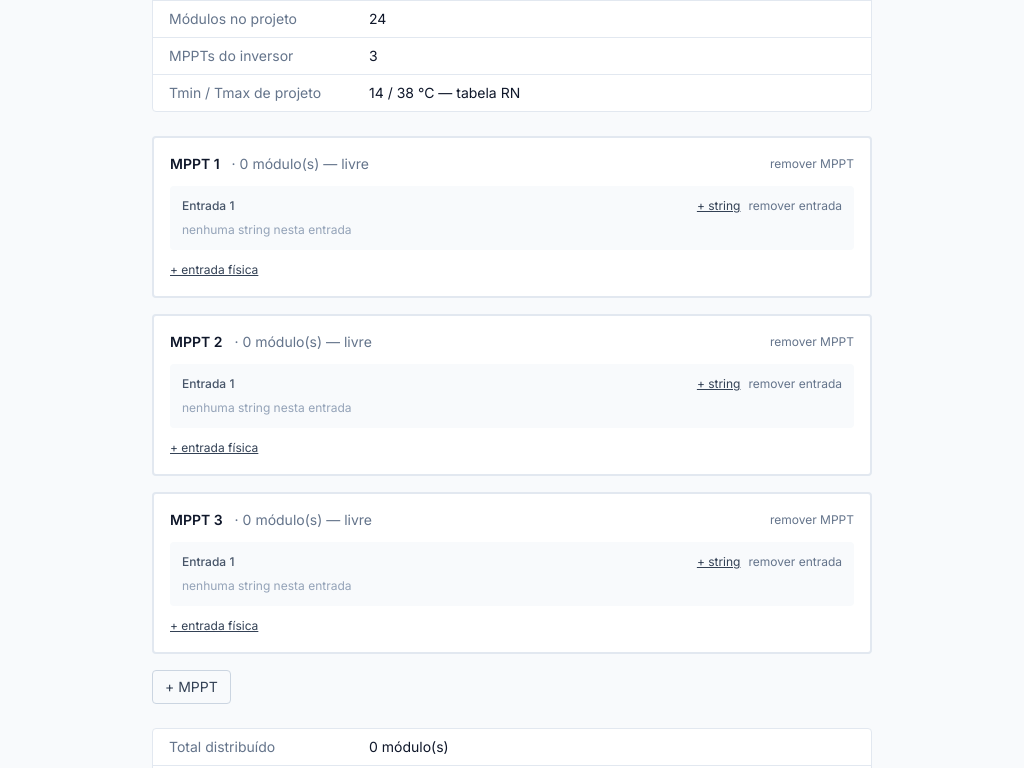
it: A1 · separador do MPPT › 19 · MPPT 2 com 12 módulos idem
(page scrolled)
Expected: the heading "MPPT 1 · 0 módulo(s) — livre" is shown, [170,154,369,174]
Click the 2nd button "+ string". click: click(719, 384)
box: [697,376,740,392]
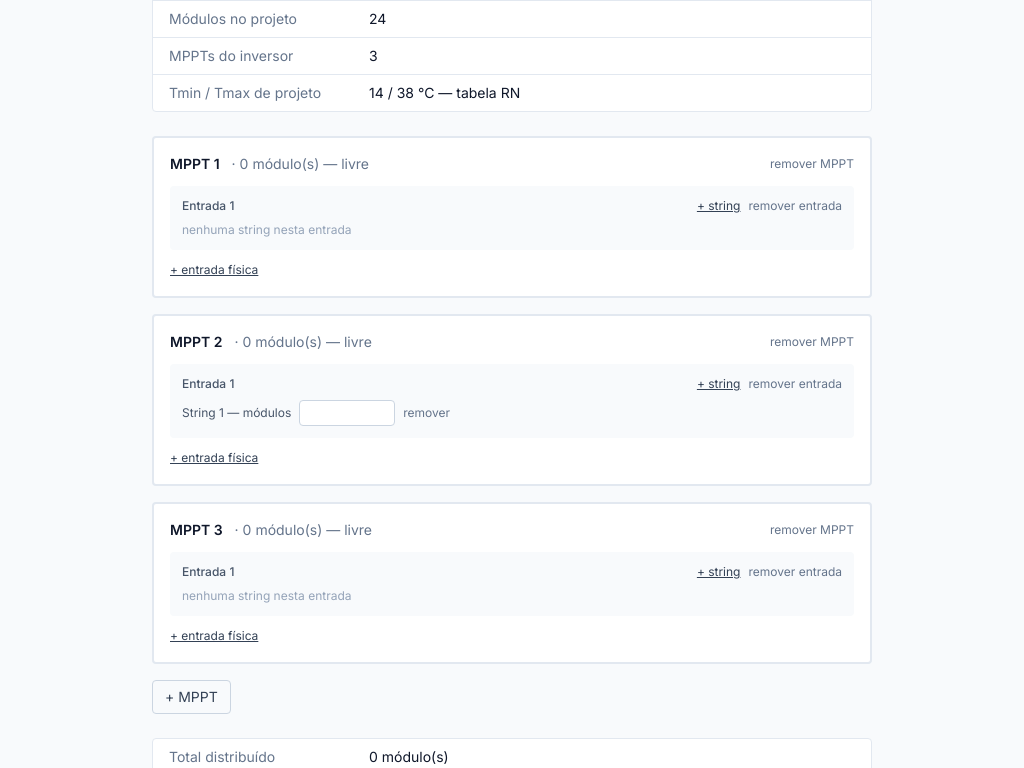
Type "12" into the number field named "MPPT 2 entrada 1 string 1 módulos". click: (347, 413)
box: [299,400,395,426]
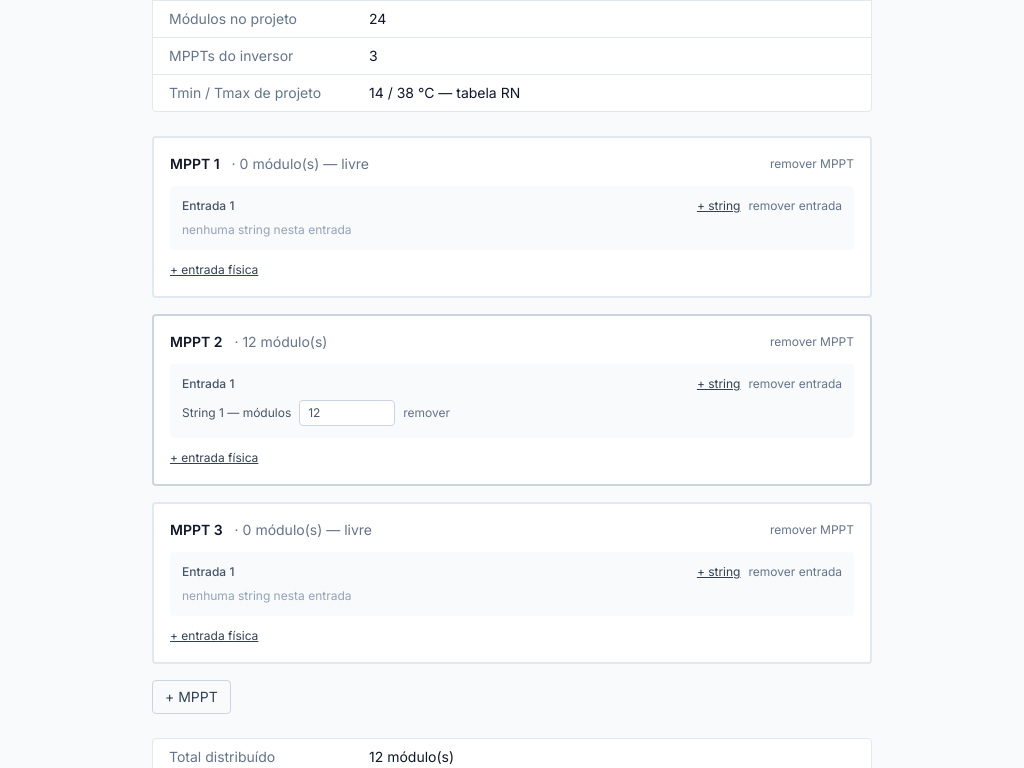
Now the heading "MPPT 2 · 12 módulo(s)" is shown, box [170,332,328,352]
